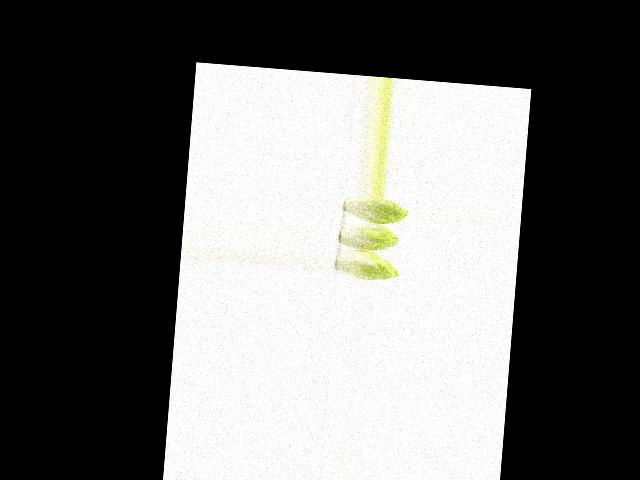lettuce: (331, 249, 401, 282)
